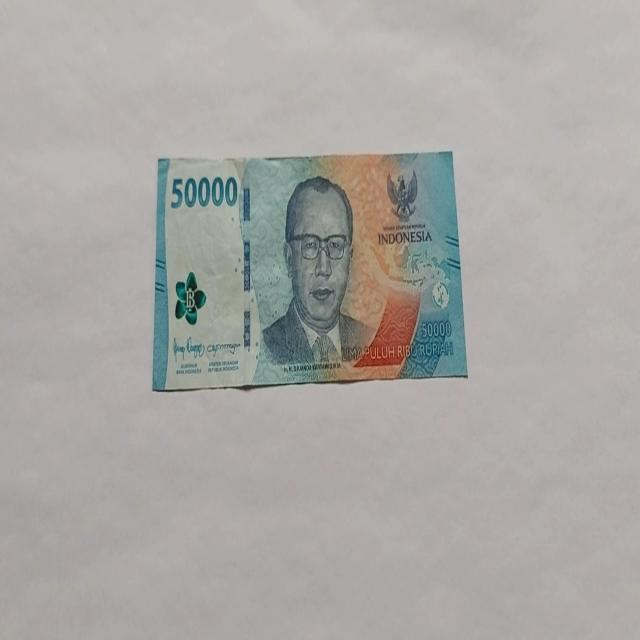lima puluh ribu rupiah: (152, 150, 468, 392), (258, 175, 378, 372)
